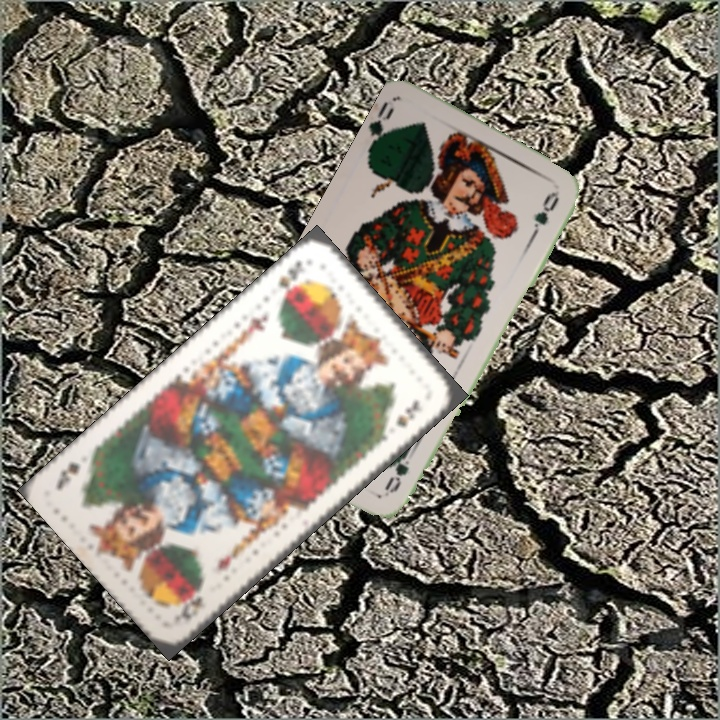GO: (381, 441, 420, 496), (364, 98, 399, 154)
SK: (274, 256, 307, 301), (172, 591, 205, 625)
